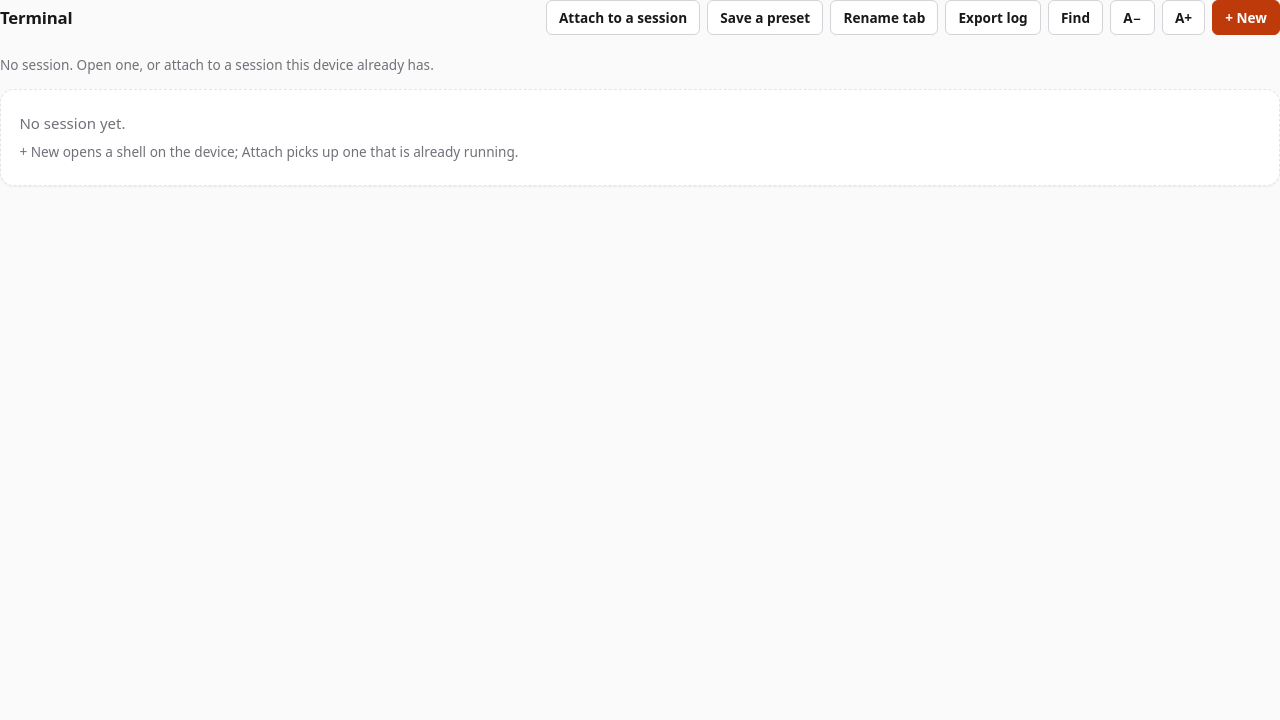
Test: TerminalWorkspace tab names › renames the active tab and the name survives the next poll
Click the button "+ New" at (1246, 18), box [1212, 0, 1279, 35]
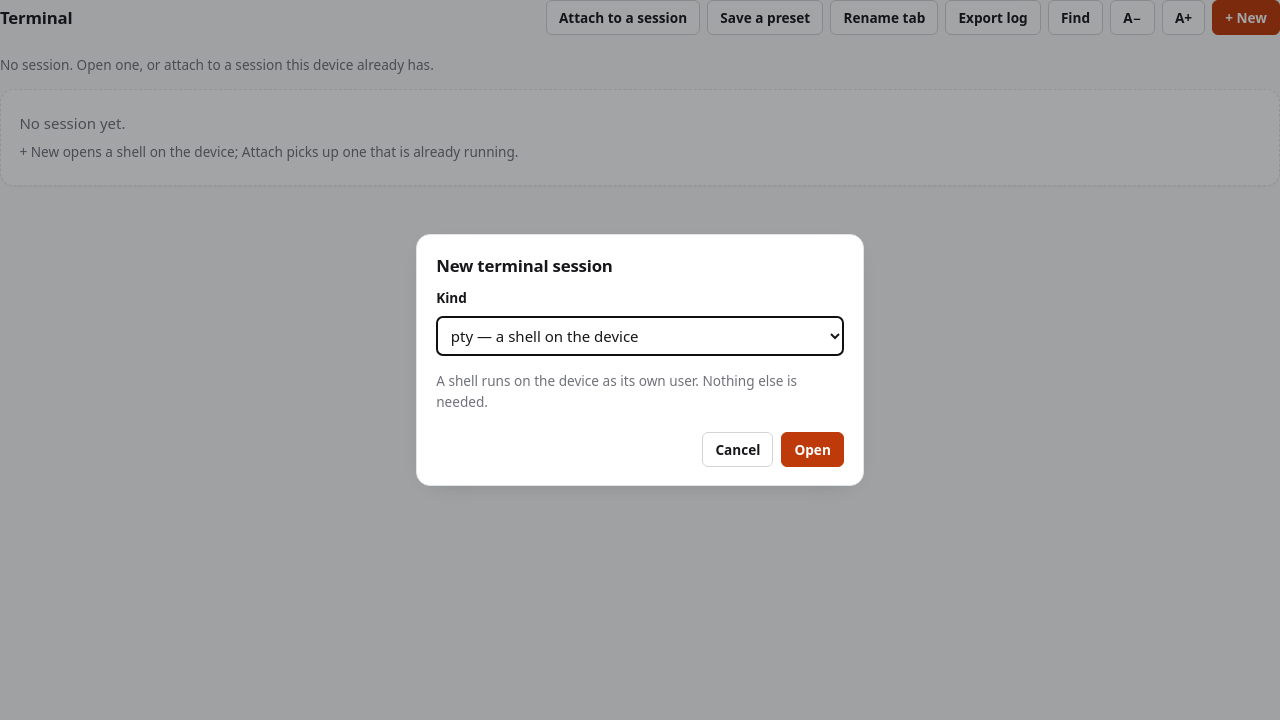
Click the button "Open" at (813, 449), box [781, 432, 844, 467]
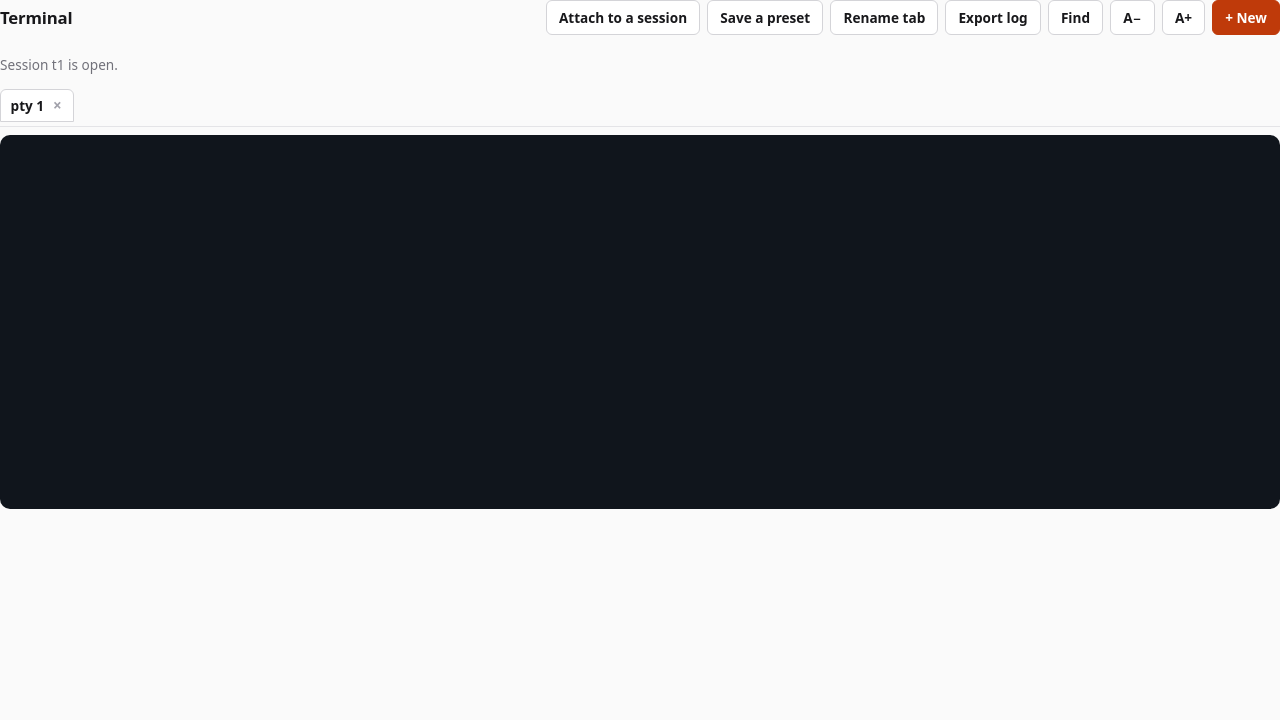
expect the heading "New terminal session" is gone: met
expect the tab "pty 1" is shown: met, box [0, 89, 74, 122]
Click the button "Rename tab" at (884, 18), box [830, 0, 938, 35]
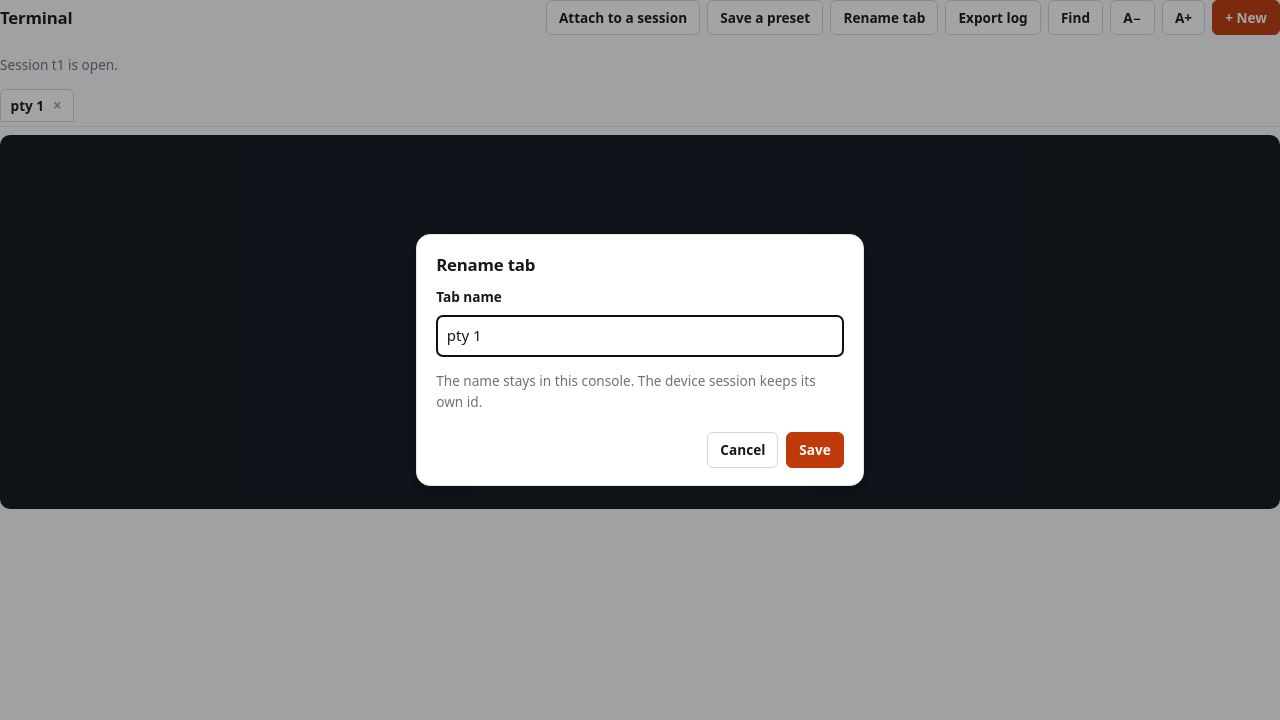
expect the field labelled "Tab name" holds "pty 1": met
Replace the text in the field labelled "Tab name" with "  prod   db " at (640, 336), box [436, 316, 844, 357]
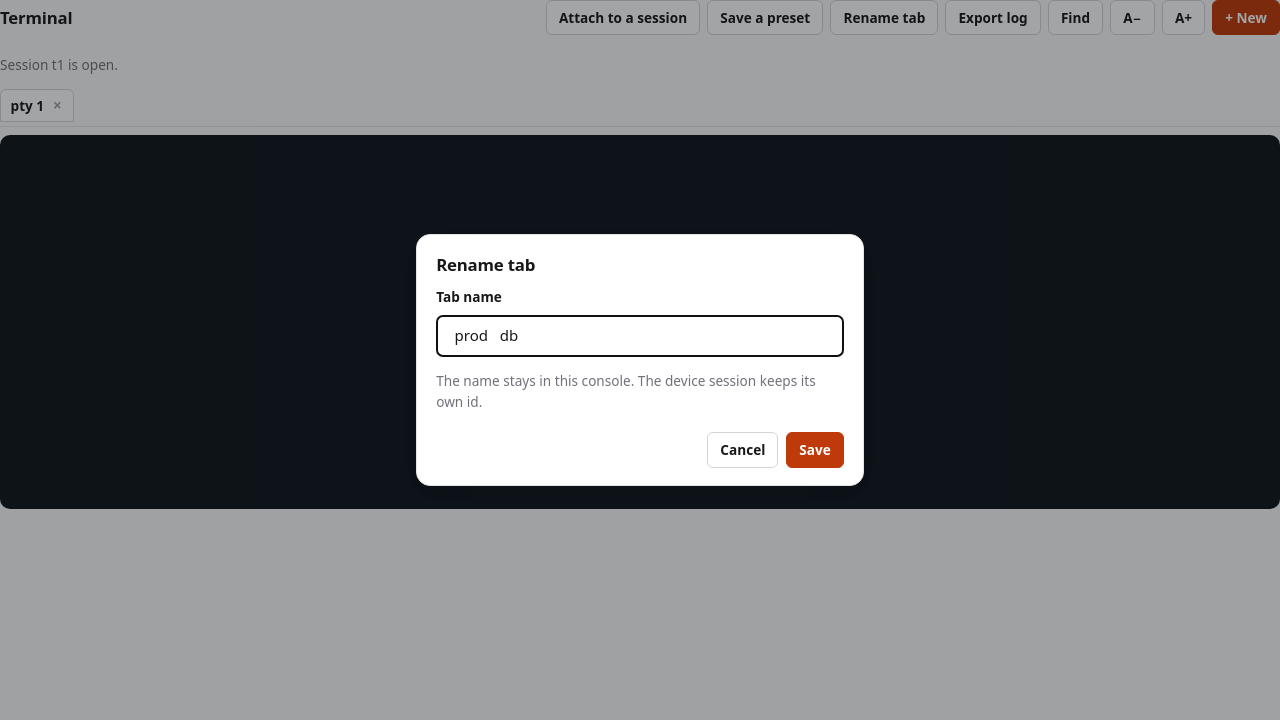
Click the button "Save" at (815, 450), box [786, 432, 844, 468]
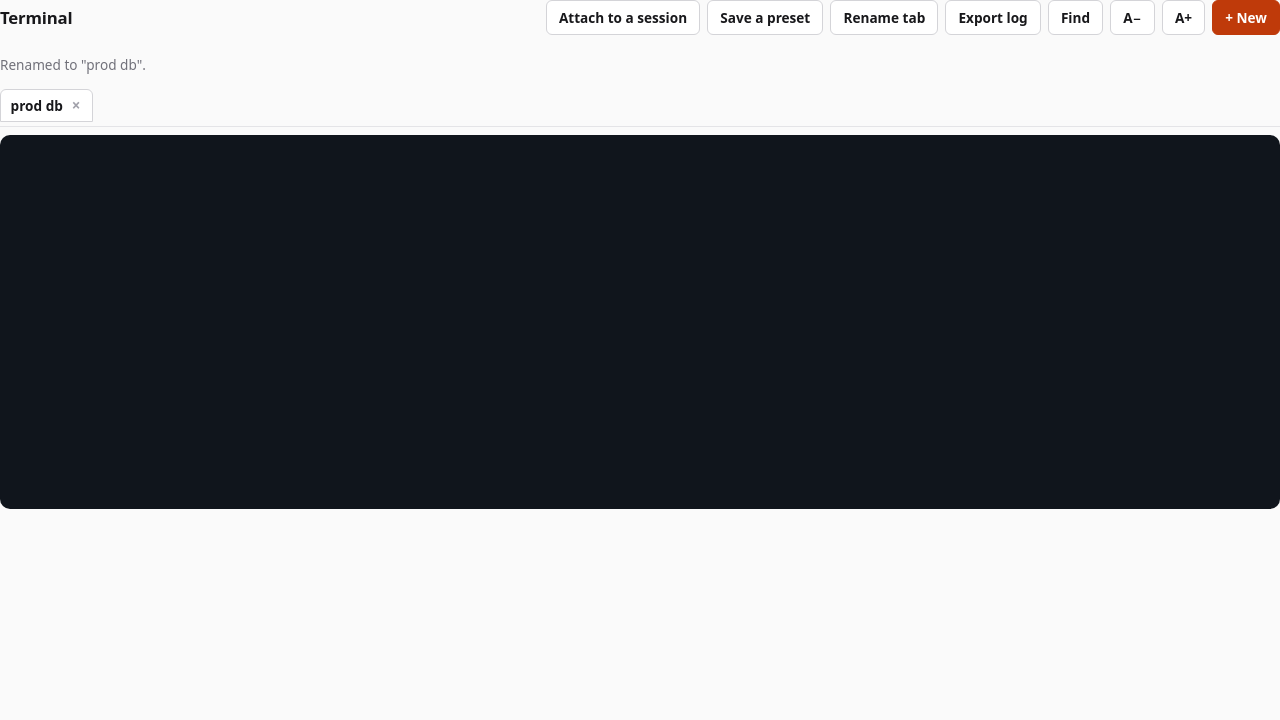
expect the tab "prod db" is shown: met, box [0, 89, 92, 122]
expect the text "Renamed to \"prod db\"." is shown: met, box [0, 55, 146, 74]
expect the tab "pty 1" is gone: met
